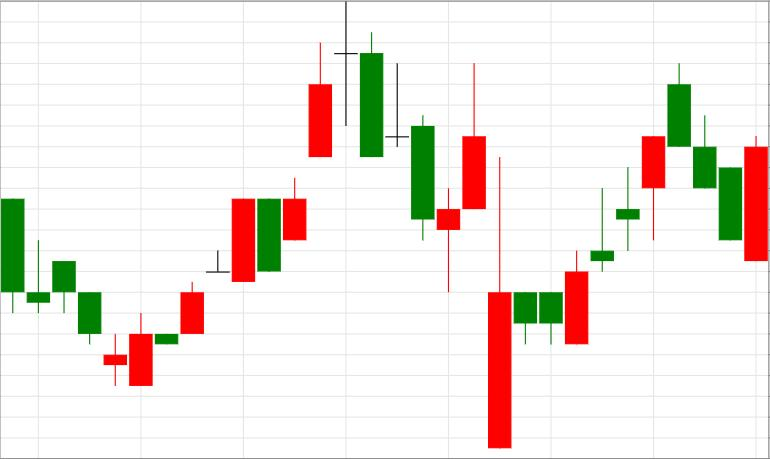bullish_engulfing_rise: (667, 64, 768, 262)
evening_star_fall: (104, 2, 383, 386)
morning_star_rise: (334, 2, 486, 293)
